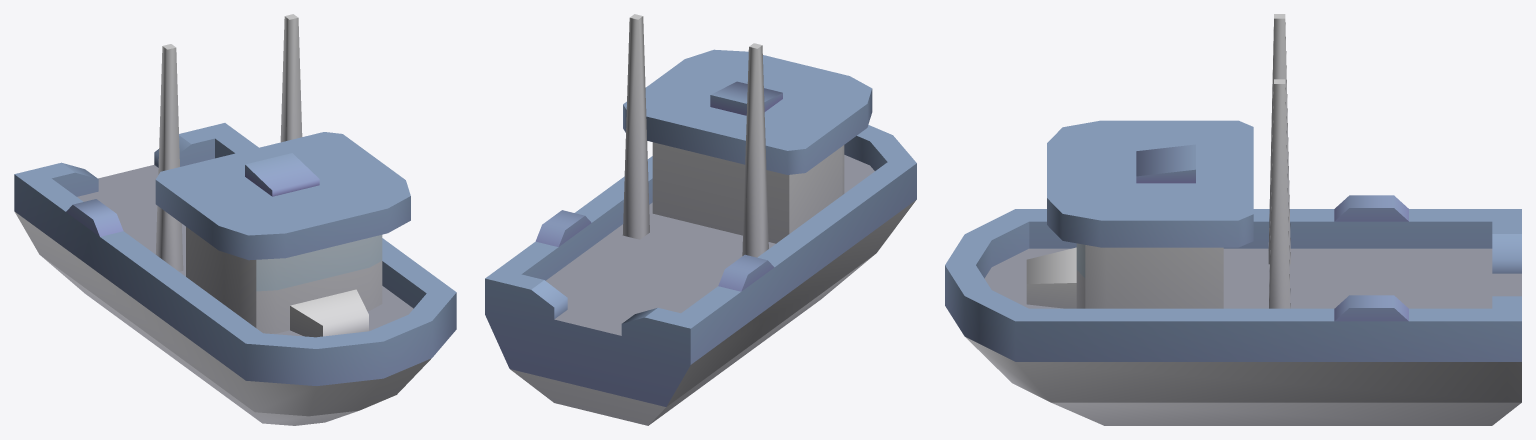
Rendered from fishing-boat.glb.
3 views of the same model, side by side, from view 1: azimuth 30°, elevation 25°; view 2: azimuth 150°, elevation 25°; view 3: azimuth 270°, elevation 25° (orthographic). The views are drawn at different scales.
Visible parts, largest first — view 1: fishing-boat; view 2: fishing-boat; view 3: fishing-boat.
Part boxes in pixels (box(x1,y1,x2,y2)): fishing-boat: box(14, 14, 456, 425); fishing-boat: box(485, 14, 916, 425); fishing-boat: box(945, 14, 1521, 425).
Bounding box in the file's own units: 1.79 × 2.6 × 3.87.
